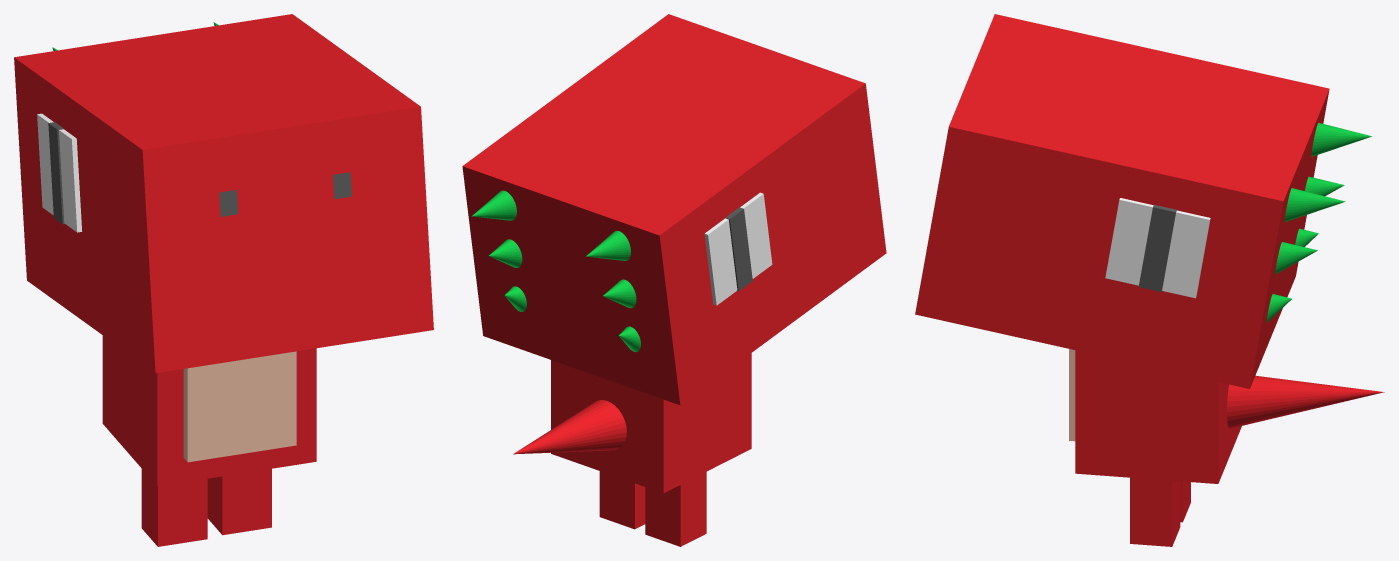
Rendered from PlayerAtack.fbx.
3 views of the same model, side by side, from view 1: azimuth 30°, elevation 25°; view 2: azimuth 150°, elevation 25°; view 3: azimuth 270°, elevation 25° (orthographic). The views are drawn at different scales.
Parts seen in each view (by area): view 1: RED:RED_HEAD, RED:RED_BODY, RED:RED_LEG_L, RED:RED_LEG_R; view 2: RED:RED_HEAD, RED:RED_BODY, RED:RED_LEG_L, RED:RED_TAIL, RED:RED_LEG_R; view 3: RED:RED_HEAD, RED:RED_BODY, RED:RED_TAIL, RED:RED_LEG_R.
Part boxes in pixels (<box>): RED:RED_HEAD: <box>14,14,433,373</box>; RED:RED_BODY: <box>102,335,316,486</box>; RED:RED_LEG_L: <box>141,469,207,546</box>; RED:RED_LEG_R: <box>207,468,271,535</box>; RED:RED_HEAD: <box>462,14,886,405</box>; RED:RED_BODY: <box>551,353,751,493</box>; RED:RED_LEG_L: <box>645,472,706,546</box>; RED:RED_TAIL: <box>513,400,626,454</box>; RED:RED_LEG_R: <box>599,471,645,529</box>; RED:RED_HEAD: <box>915,14,1371,388</box>; RED:RED_BODY: <box>1069,349,1241,483</box>; RED:RED_TAIL: <box>1227,375,1384,428</box>; RED:RED_LEG_R: <box>1130,477,1180,546</box>.
Bounding box in the file's own units: 3.42 × 5.03 × 4.86.
